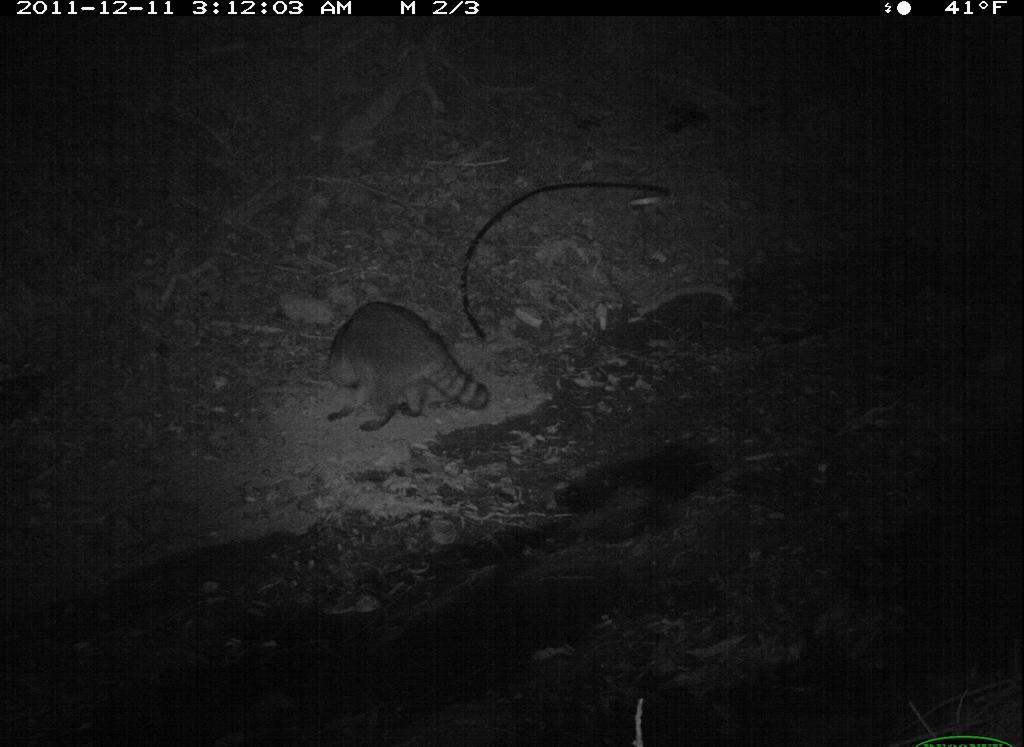raccoon: (300, 291, 505, 446)
